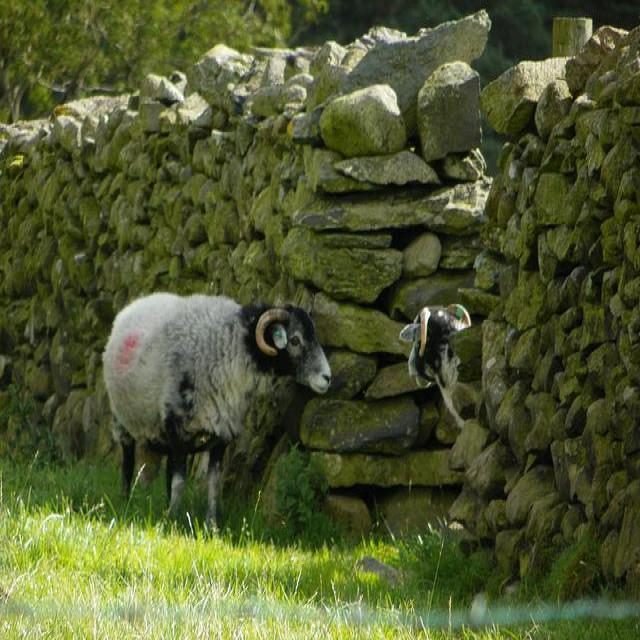Sheep: (96, 289, 336, 528), (401, 305, 474, 420)
